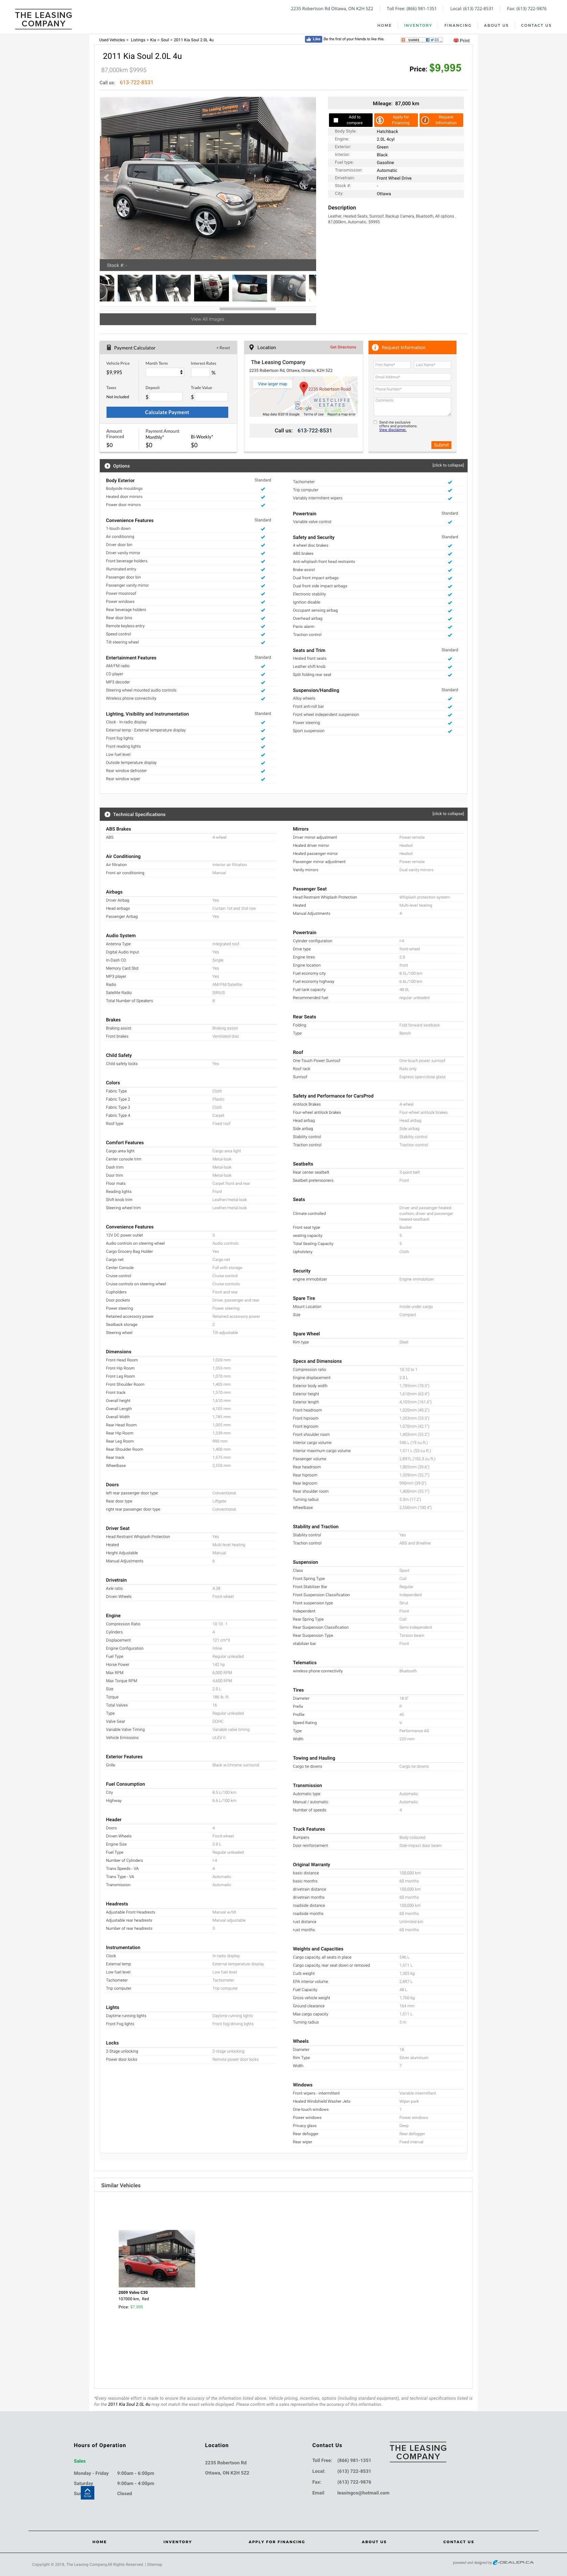car: (302, 172, 316, 184)
